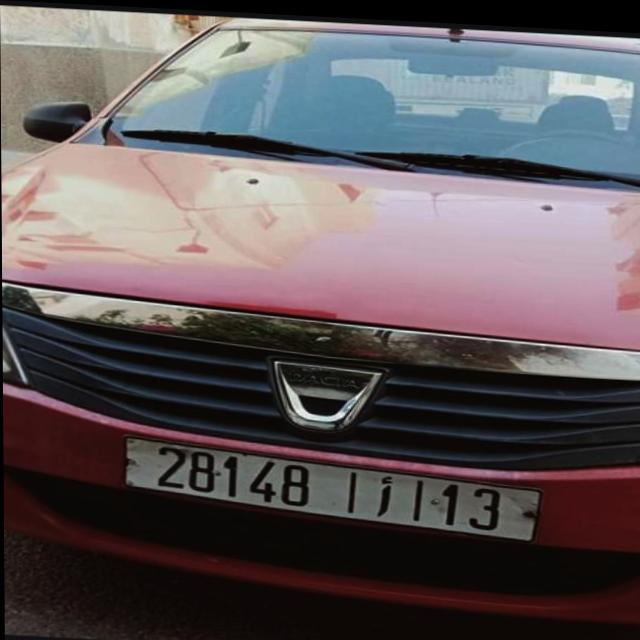License-Plate: (125, 437, 539, 535)
